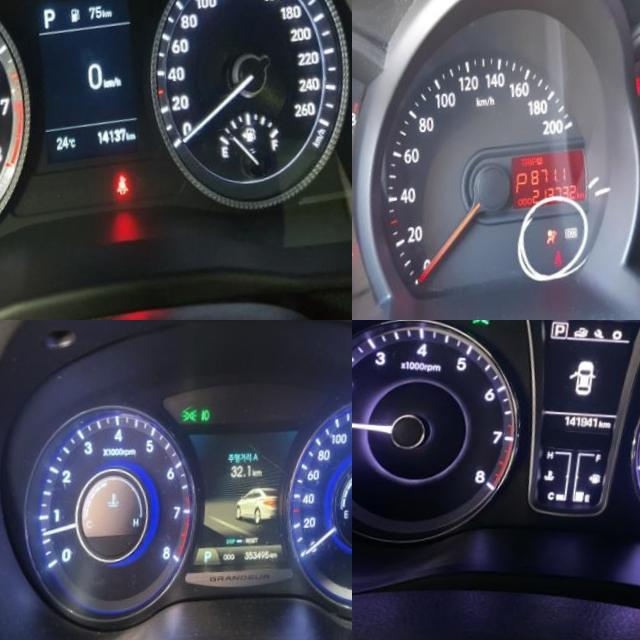Doors: (352, 242, 366, 262)
FrontFogLight: (205, 403, 216, 418)
SideLamp: (186, 403, 205, 421)
